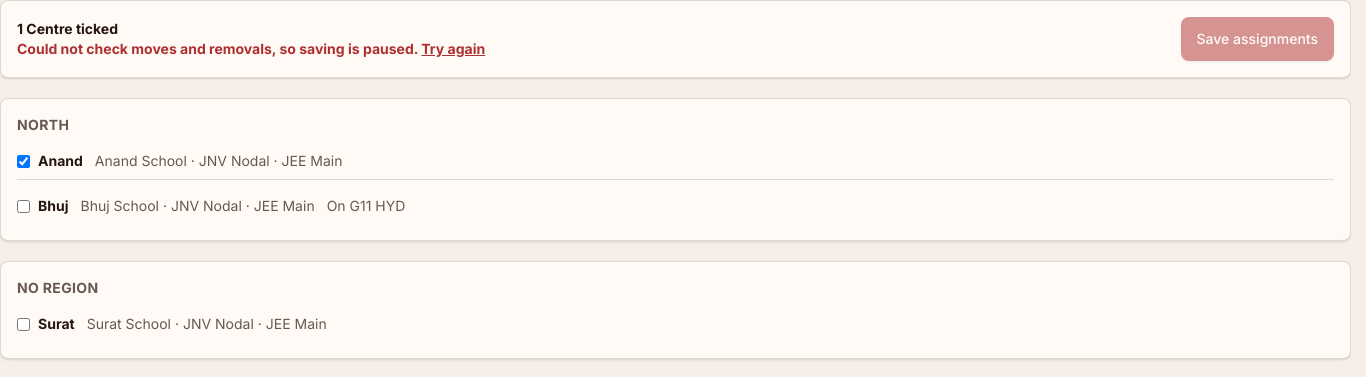
Test case: CurriculumPlanAssignForm › shows an error instead of 'Checking moves…' when the preview fails, and retries
Expected: the element with test id "assign-preview-error" shows "Could not check moves and removals", [17,40,418,57]
Expected: the button "Save assignments" is disabled, [1181,17,1334,61]
Click the button "Try again" at x=453, y=49, box [421,39,485,59]
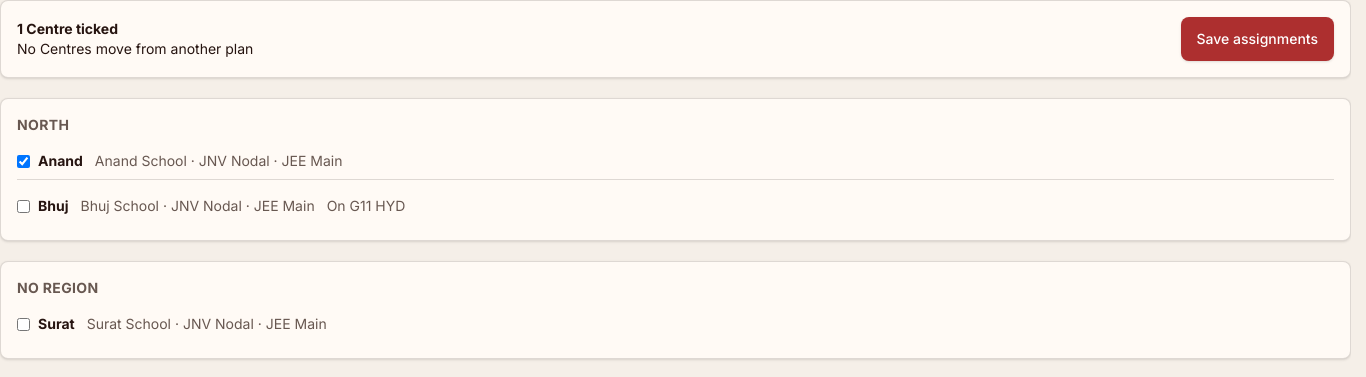
Expected: the text "Checking moves…" is shown, [17,39,253,59]
Now the button "Save assignments" is enabled, box [1181,17,1334,61]
